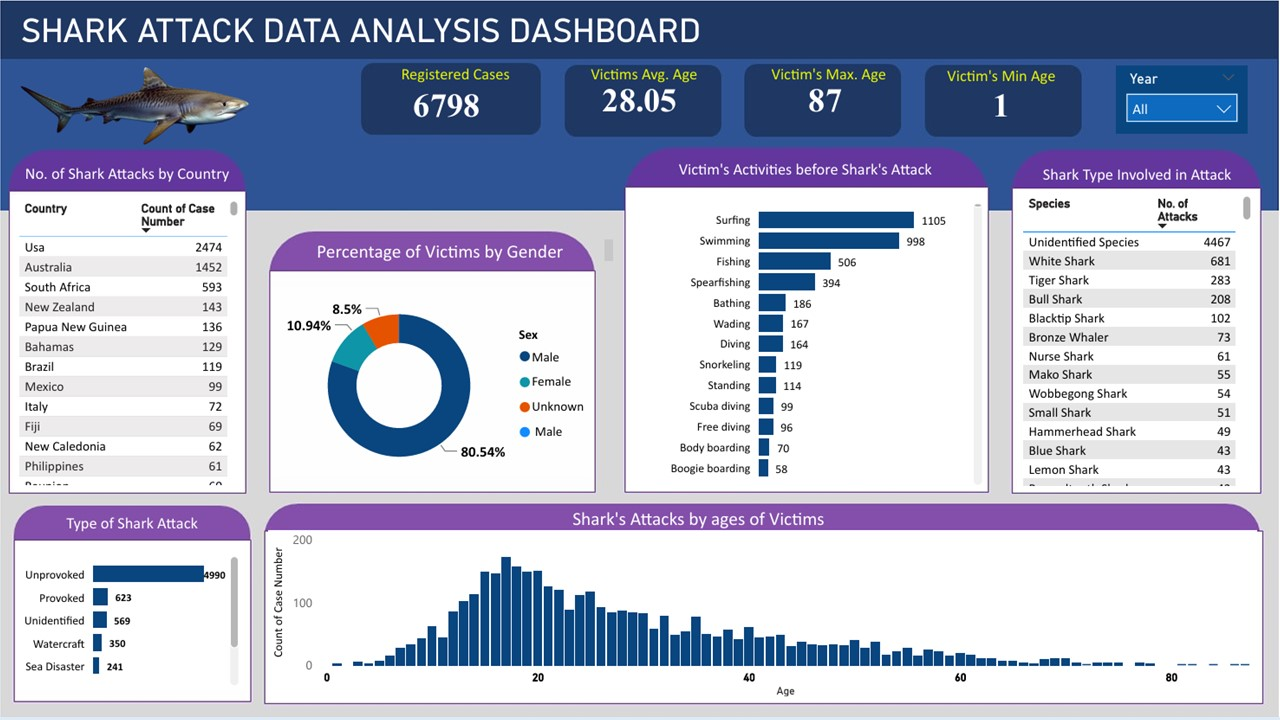

The dashboard page shown, as its layout file describes it:
{"tool":"powerbi","page":{"name":"Page 1","canvas":[1280,720],"ordinal":0},"visuals":[{"type":"card","title":"Total no. of Registerd Cases","fields":{"Values":["CountNonNull(Table.Case Number)"]},"box":[369,64,155,78],"z":0},{"type":"donutChart","title":"Percentage of Total Case Number by Sex","fields":{"Category":["Table.Sex"],"Y":["CountNonNull(Table.Case Number)"]},"box":[278.8,276.2,315,213.8],"z":1000},{"type":"tableEx","title":"Sharks Types Involved in Attacks","fields":{"Values":["Table.Species","Table.Case Number"]},"box":[1018.8,190,238.8,301.2],"z":2000},{"type":"barChart","title":"Activites of Victims before Shark Attack","fields":{"Category":["Table.Activity"],"Y":["CountNonNull(Table.Case Number)"]},"box":[630,190,357.5,300],"z":3000},{"type":"lineClusteredColumnComboChart","title":"No. of Attacks by ages of Victims","fields":{"Category":["Table.Age"],"Y":["CountNonNull(Table.Case Number)"]},"box":[267.8,531,990,170],"z":4000},{"type":"tableEx","fields":{"Values":["Table.Country","Table.Case Number"]},"box":[12.5,195,230,295],"z":5000},{"type":"card","title":"Max Age Victim","fields":{"Values":["Max(Table.Age)"]},"box":[747,63,157.5,69.8],"z":6000},{"type":"card","title":"Victims Avg. Age","fields":{"Values":["Avg(Table.Age)"]},"box":[563.6,63,151.9,69.8],"z":7000},{"type":"textbox","box":[14.6,4.5,1249.9,58.5],"z":8000},{"type":"textbox","box":[361,58,189,31],"z":9000},{"type":"textbox","box":[1018,159,241,36],"z":10000},{"type":"textbox","box":[663.8,153.8,283.8,32.5],"z":11000},{"type":"textbox","box":[270,233.8,347.5,32.5],"z":12000},{"type":"textbox","box":[268,502,862,41],"z":13000},{"type":"textbox","box":[0,157.5,253.1,32.6],"z":14000},{"type":"textbox","box":[550,58,189,31],"z":15000},{"type":"textbox","box":[735,58,189,31],"z":16000},{"type":"textbox","box":[908,60,189,31],"z":17000},{"type":"image","box":[0,58,268,93],"z":18000},{"type":"barChart","fields":{"Category":["Table.Type"],"Y":["CountNonNull(Table.Case Number)"]},"box":[15,543.8,227.5,147.5],"z":19000},{"type":"textbox","box":[8.8,508.8,245,32.5],"z":20000},{"type":"card","title":"Max Age Victim","fields":{"Values":["Min(Table.Age)"]},"box":[923.8,67.5,157.5,70],"z":21000},{"type":"slicer","fields":{"Values":["Table.Year"]},"box":[1117.5,65,131.2,67.5],"z":22000}]}

Visuals, with their boxes in screenshot pixels (x1, y1, x2, y2), scaled from the page's 1280x720 canvas onto the 1280x720 screenshot:
"Total no. of Registerd Cases" card: BBox(369, 64, 524, 142)
"Percentage of Total Case Number by Sex" donutChart: BBox(279, 276, 594, 490)
"Sharks Types Involved in Attacks" tableEx: BBox(1019, 190, 1258, 491)
"Activites of Victims before Shark Attack" barChart: BBox(630, 190, 988, 490)
"No. of Attacks by ages of Victims" lineClusteredColumnComboChart: BBox(268, 531, 1258, 701)
tableEx - Table.Country x Table.Case Number: BBox(12, 195, 242, 490)
"Max Age Victim" card: BBox(747, 63, 904, 133)
"Victims Avg. Age" card: BBox(564, 63, 716, 133)
textbox: BBox(15, 4, 1264, 63)
textbox: BBox(361, 58, 550, 89)
textbox: BBox(1018, 159, 1259, 195)
textbox: BBox(664, 154, 948, 186)
textbox: BBox(270, 234, 618, 266)
textbox: BBox(268, 502, 1130, 543)
textbox: BBox(0, 158, 253, 190)
textbox: BBox(550, 58, 739, 89)
textbox: BBox(735, 58, 924, 89)
textbox: BBox(908, 60, 1097, 91)
image: BBox(0, 58, 268, 151)
barChart - Table.Type x CountNonNull(Table.Case Number): BBox(15, 544, 242, 691)
textbox: BBox(9, 509, 254, 541)
"Max Age Victim" card: BBox(924, 68, 1081, 138)
slicer - Table.Year: BBox(1118, 65, 1249, 132)
